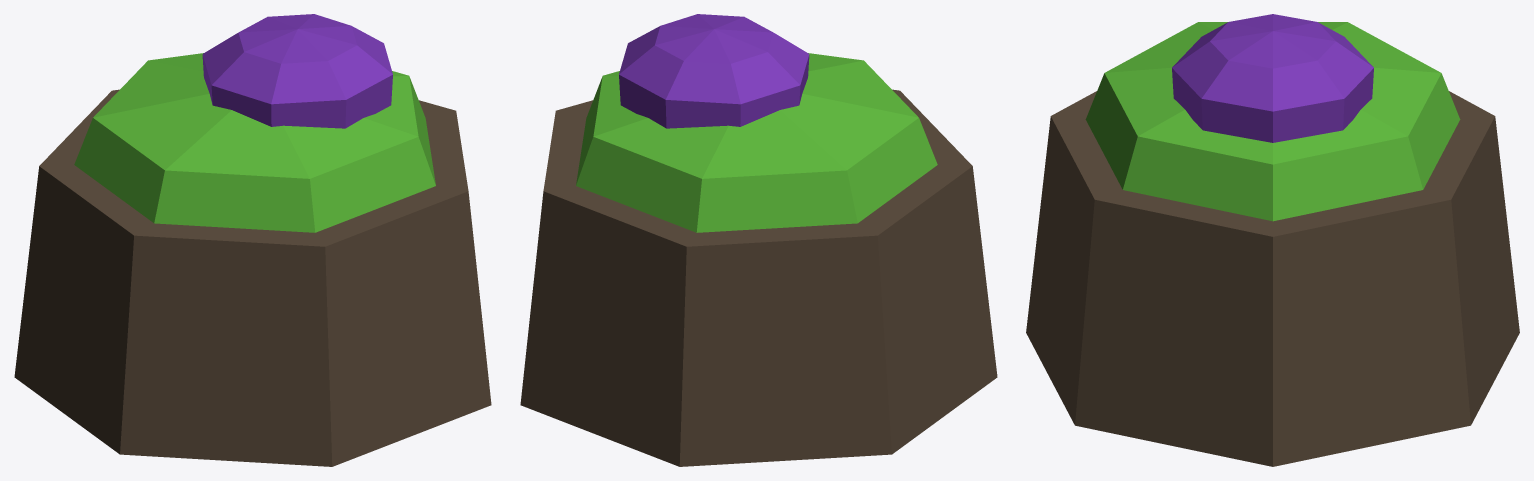
The model's file is env_r11_slime_stump.glb.
3 renders of one model, left to right at view 1: azimuth 30°, elevation 25°; view 2: azimuth 150°, elevation 25°; view 3: azimuth 270°, elevation 25°, orthographic. The views are drawn at different scales.
Parts seen in each view (by area): view 1: env_r11_slime_stump; view 2: env_r11_slime_stump; view 3: env_r11_slime_stump.
Part boxes in pixels (x1,y1,x2,y2): env_r11_slime_stump: (14,14,491,466); env_r11_slime_stump: (520,14,997,466); env_r11_slime_stump: (1026,14,1519,466).
Bounding box in the file's own units: 1.3 × 1 × 1.3.
Materials: 1 (1 with a texture image).
